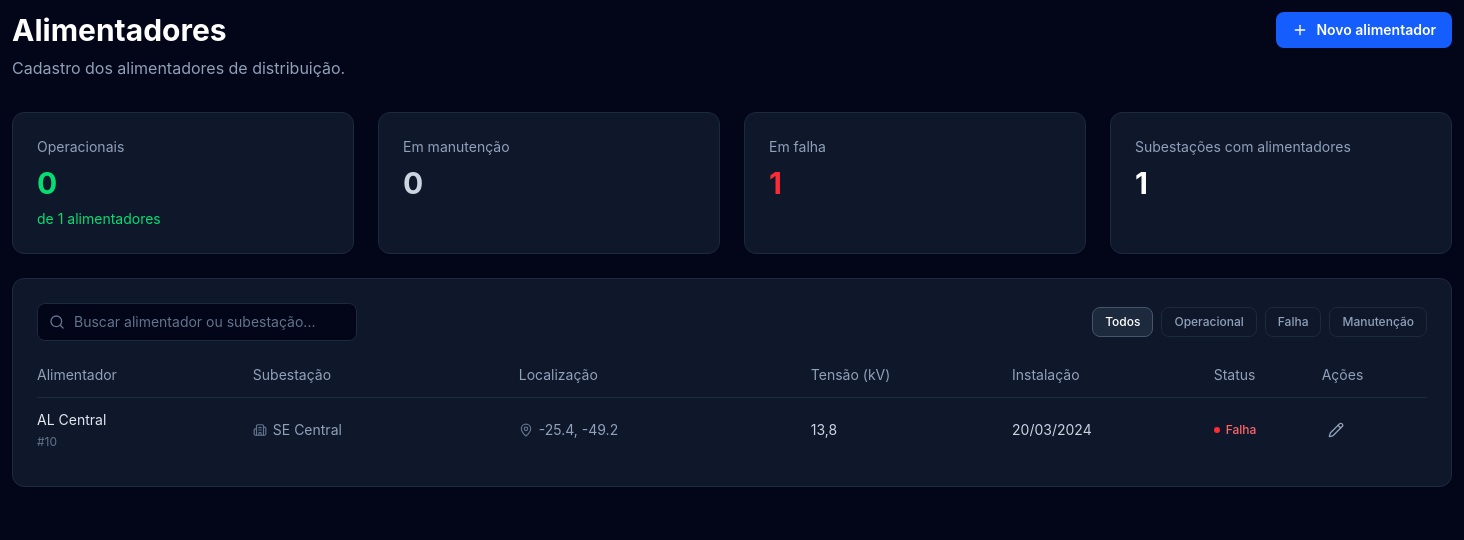
listagem › busca pelo nome da subestacao
Check: the text "AL Central" is shown, box [37,411,106,428]
Type "norte" into the field with placeholder "Buscar alimentador ou subestação...".
click(197, 322); type("norte")  # box [37,303,357,341]
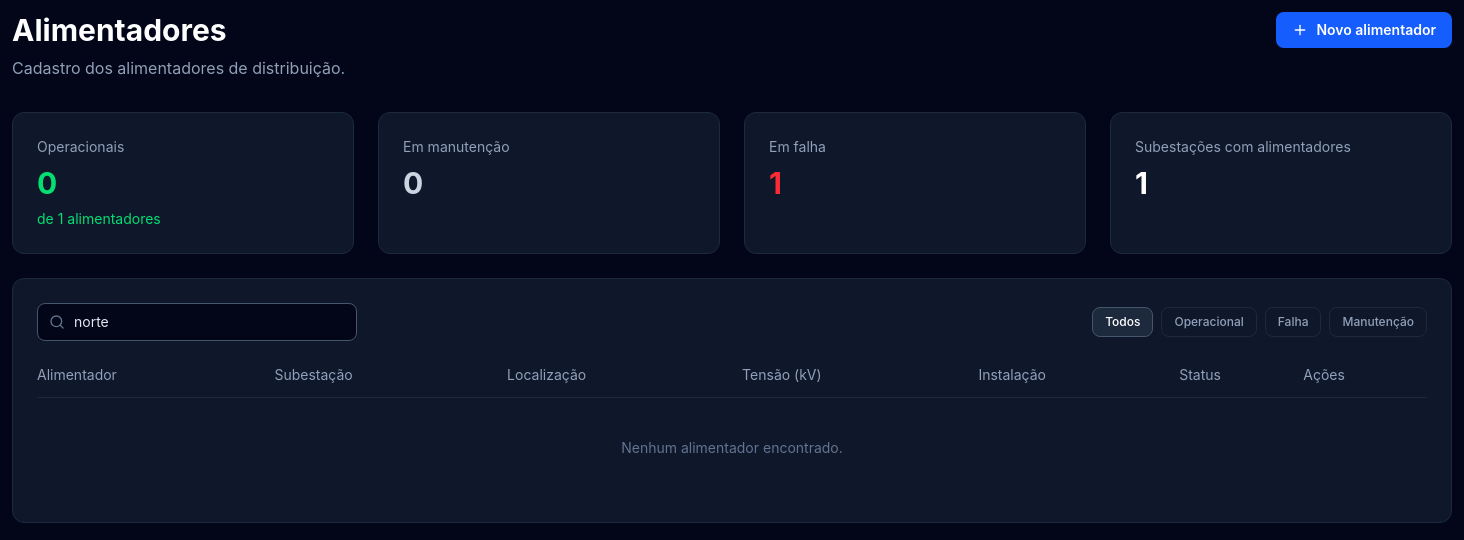
Check: the text "AL Central" is gone
Check: the text "Nenhum alimentador encontrado." is shown, box [621,438,843,458]
